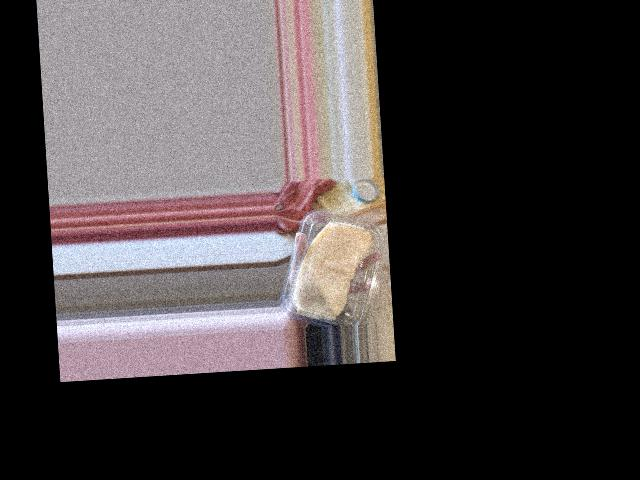cheese: (281, 203, 387, 330)
